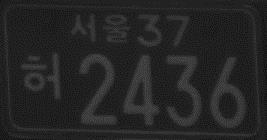2: (78, 52, 119, 128)
3: (162, 52, 204, 128), (135, 12, 163, 48)
4: (120, 54, 162, 128)
6: (208, 56, 248, 130)
7: (163, 13, 192, 49)
서울_O: (70, 12, 131, 45)
허: (20, 51, 64, 104)
